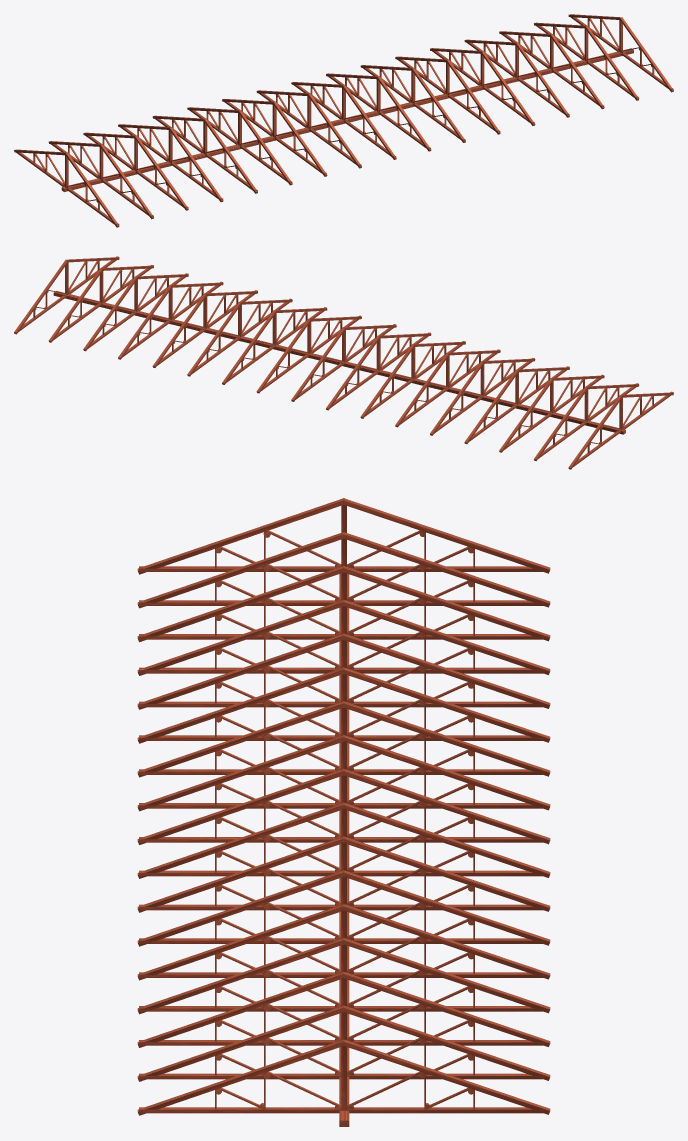
Rendered from a steel bar 2 tex.fbx.
3 views of the same model, one above another, from view 1: azimuth 30°, elevation 25°; view 2: azimuth 150°, elevation 25°; view 3: azimuth 270°, elevation 25° (orthographic). The views are drawn at different scales.
Parts seen in each view (by area): view 1: pCube244; view 2: pCube244; view 3: pCube244.
Part boxes in pixels (x1,y1,x2,y2): pCube244: [14, 14, 673, 227]; pCube244: [14, 256, 673, 469]; pCube244: [137, 498, 550, 1126].
Bounding box in the file's own units: 389 × 24.58 × 122.
